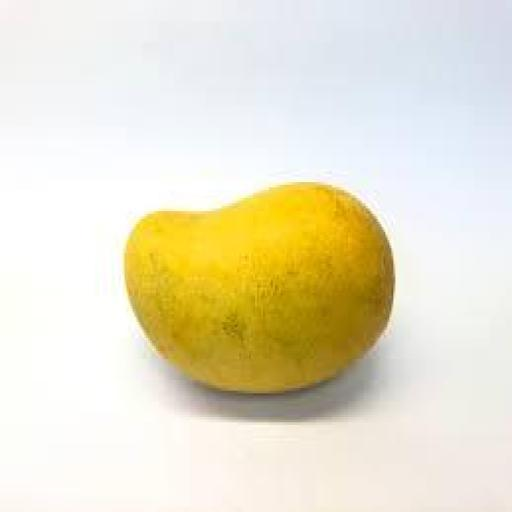mango: (125, 183, 393, 393)
